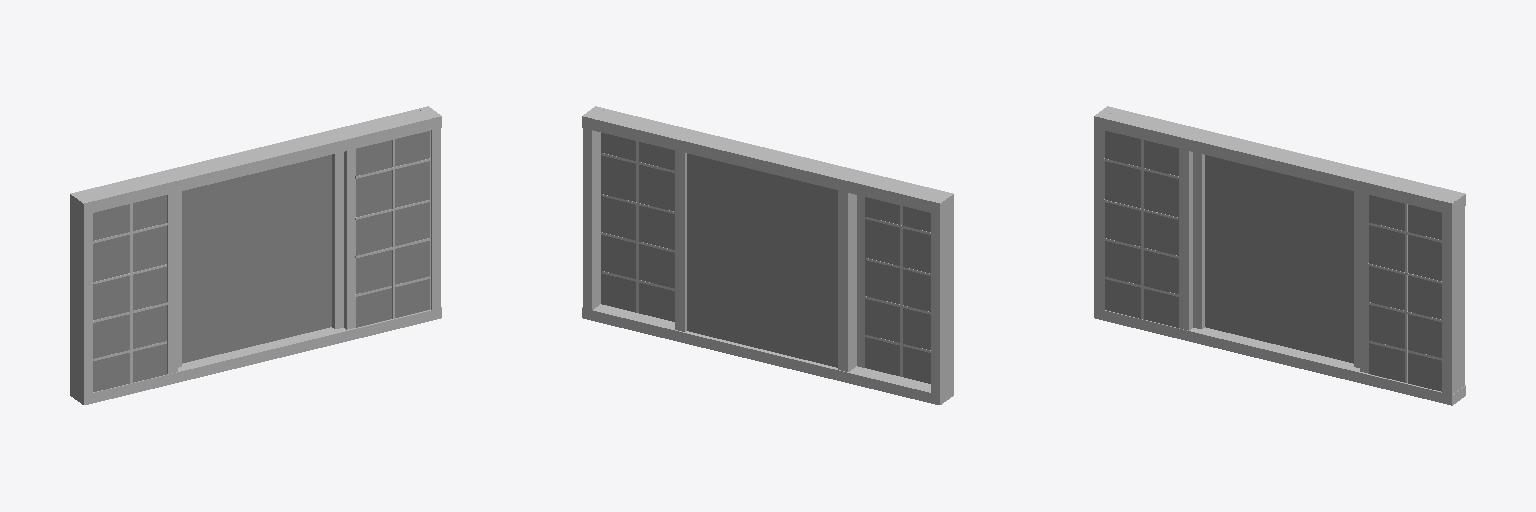
The model's file is DianaWindow.obj.
3 views of the same model, side by side, from view 1: azimuth 30°, elevation 25°; view 2: azimuth 150°, elevation 25°; view 3: azimuth 330°, elevation 25° (orthographic).
Parts seen in each view (by area): view 1: sweethome3d_window_pane1, sweethome3d_window_pane3, sweethome3d_window_pane2, Cube_3_2, Cube_3_1, Cube_3_3, Cube_5_2, Cube_5_1, Cube_3_4, Cube_5_4, Cube_5, Cube_6_1 (+1 smaller); view 2: sweethome3d_window_pane1, sweethome3d_window_pane2, sweethome3d_window_pane3, Cube_3_2, Cube_3_1, Cube_3_3, Cube_3_4, Cube_5, Cube_5_1, Cube_5_4; view 3: sweethome3d_window_pane1, sweethome3d_window_pane3, sweethome3d_window_pane2, Cube_3_2, Cube_3_1, Cube_3_4, Cube_5_4, Cube_5, Cube_3_3, Cube_5_2, Cube_5_1, Cube_5_3 (+2 smaller).
Part boxes in pixels (x1,y1,x2,y2): sweethome3d_window_pane1: (182,155,331,363); sweethome3d_window_pane3: (93,195,166,391); sweethome3d_window_pane2: (356,131,429,327); Cube_3_2: (80,106,441,214); Cube_3_1: (85,307,441,404); Cube_3_3: (70,191,92,404); Cube_5_2: (344,149,355,329); Cube_5_1: (332,152,343,328); Cube_3_4: (419,106,440,318); Cube_5_4: (167,192,177,373); Cube_5: (178,191,181,367); Cube_6_1: (130,203,132,383); sweethome3d_window_pane1: (687,154,837,367); sweethome3d_window_pane2: (601,133,674,321); sweethome3d_window_pane3: (865,197,930,383); Cube_3_2: (582,106,943,214); Cube_3_1: (582,304,938,404); Cube_3_3: (931,191,953,404); Cube_3_4: (583,106,604,319); Cube_5: (838,190,856,371); Cube_5_1: (675,151,686,331); Cube_5_4: (857,195,864,367); sweethome3d_window_pane1: (1205,155,1353,363); sweethome3d_window_pane3: (1105,131,1178,327); sweethome3d_window_pane2: (1369,195,1441,391); Cube_3_2: (1095,109,1465,214); Cube_3_1: (1095,308,1465,405); Cube_3_4: (1442,191,1464,394); Cube_5_4: (1179,149,1192,330); Cube_5: (1193,152,1204,328); Cube_3_3: (1094,106,1116,319); Cube_5_2: (1360,193,1368,373); Cube_5_1: (1354,191,1359,367); Cube_5_3: (1453,212,1456,393).
Size of the model in its own units: 4.46 by 2.41 by 0.2933.